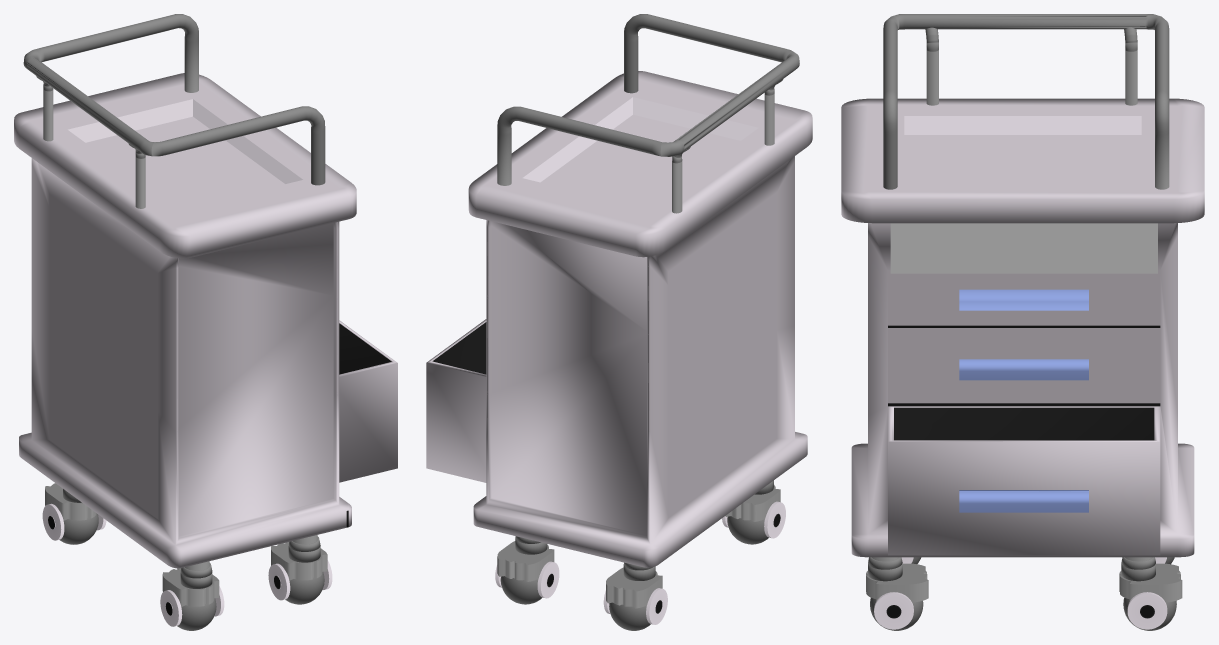
Rendered from Open_Drawerasset.fbx.
The picture shows the model from 3 angles, left to right: view 1: azimuth 30°, elevation 25°; view 2: azimuth 150°, elevation 25°; view 3: azimuth 270°, elevation 25°; orthographic projection. The views are drawn at different scales.
Parts seen in each view (by area): view 1: Open_DRAWER; view 2: Open_DRAWER; view 3: Open_DRAWER.
Part boxes in pixels (bbox=[...]): Open_DRAWER: bbox=[14, 14, 397, 630]; Open_DRAWER: bbox=[426, 14, 812, 630]; Open_DRAWER: bbox=[841, 14, 1204, 630].
Bounding box in the file's own units: 305 × 549 × 338.
